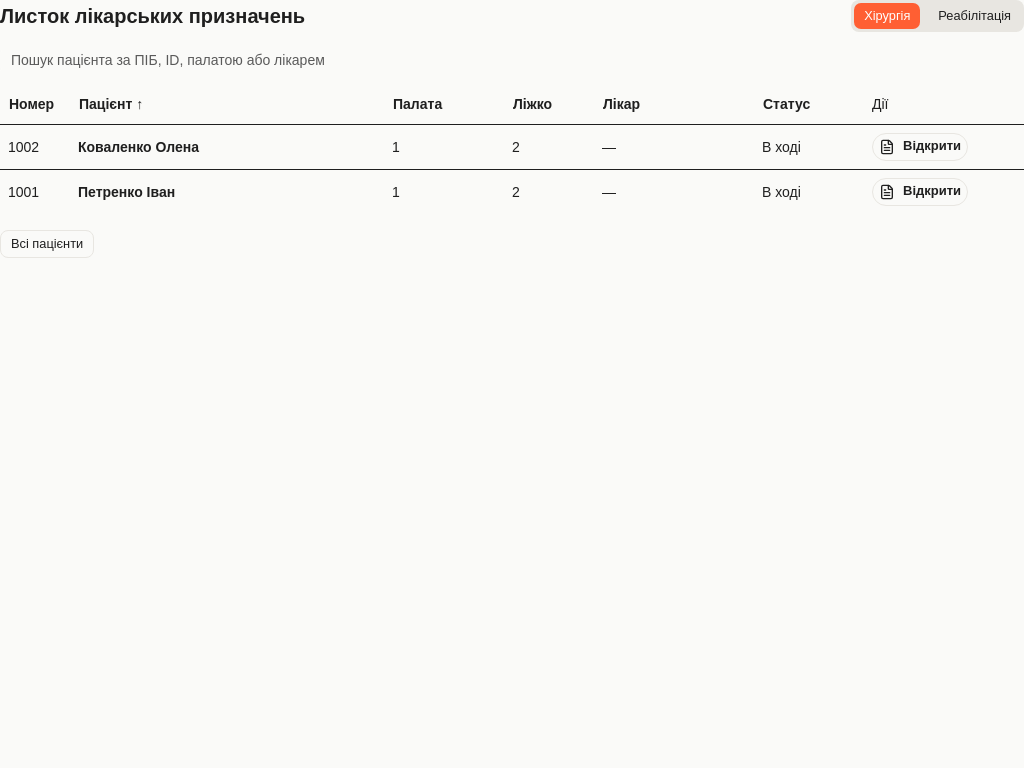
Scenario: PrescriptionPage › hides Створити листок without the PRESCRIPTION_LIST_CREATE permission
Click the button "Відкрити" in the row of "1002": (920, 146) x1=872 y1=132 x2=968 y2=160
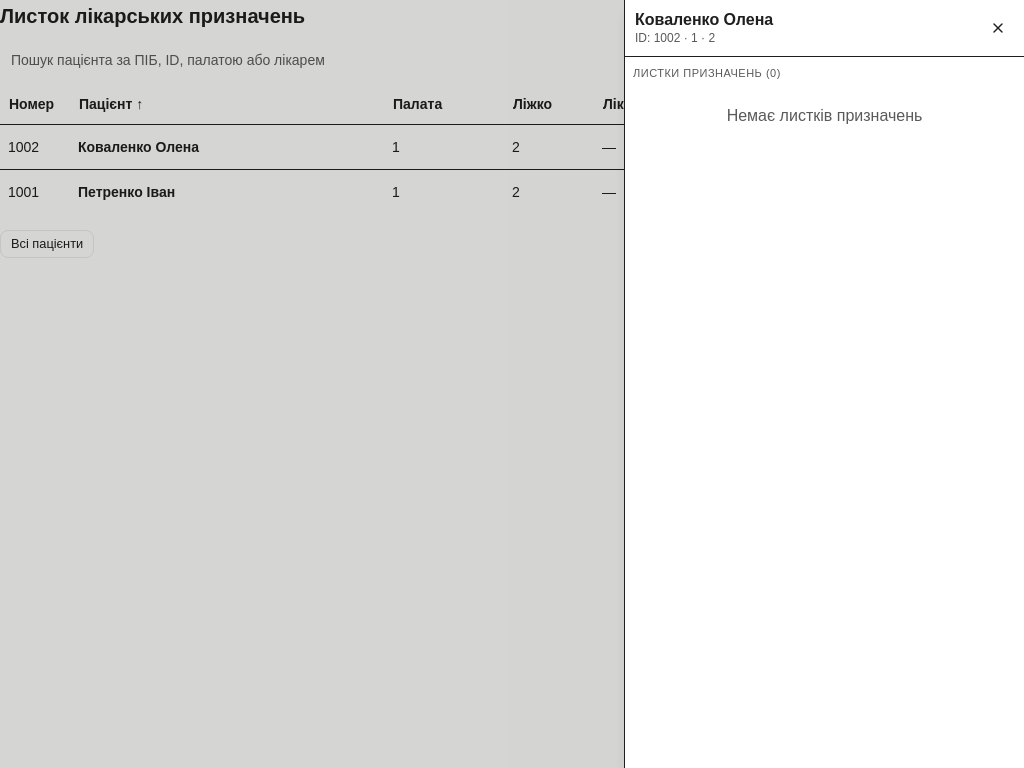
Expected: the text "Немає листків призначень" is shown, x1=727 y1=106 x2=922 y2=124
